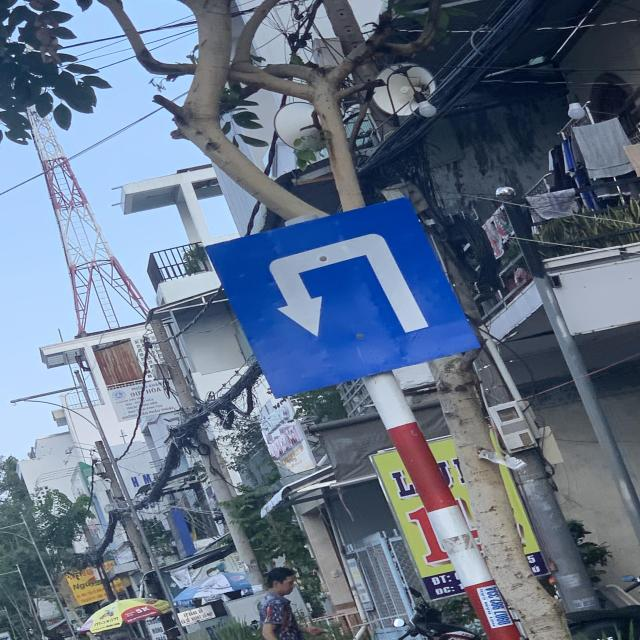Den_Giao_Thong: (210, 199, 485, 397)
